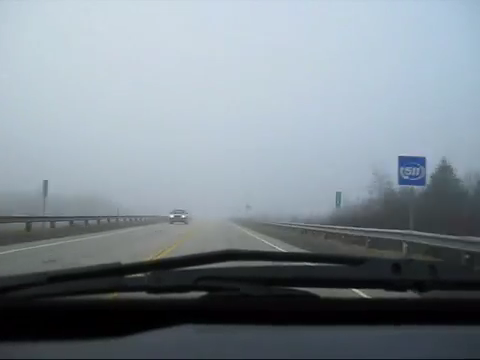car: (167, 207, 190, 225)
